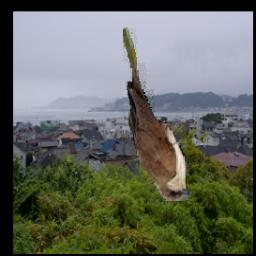Cuckoo: (122, 27, 190, 202)
